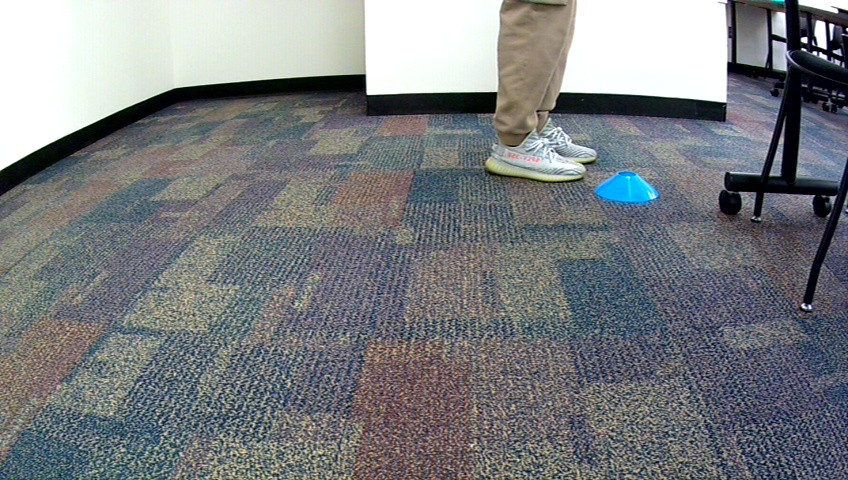cone: (592, 169, 660, 203)
